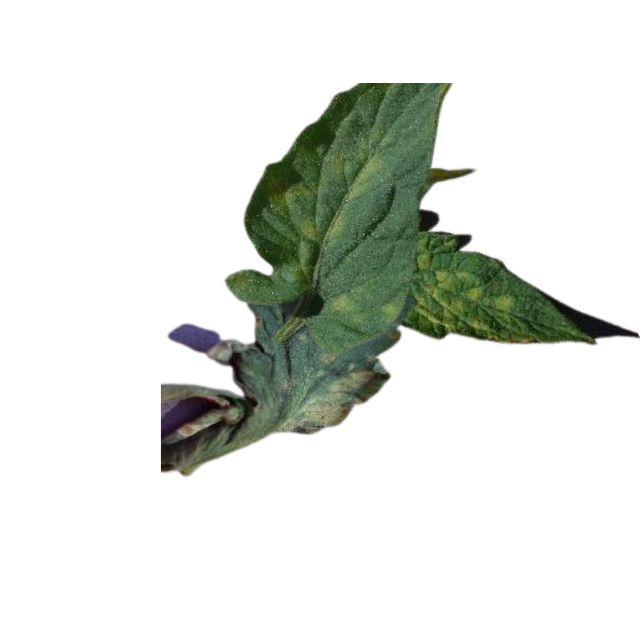Leaf_Mold: (278, 140, 384, 246), (414, 250, 515, 343), (278, 362, 384, 434), (324, 285, 362, 318)
